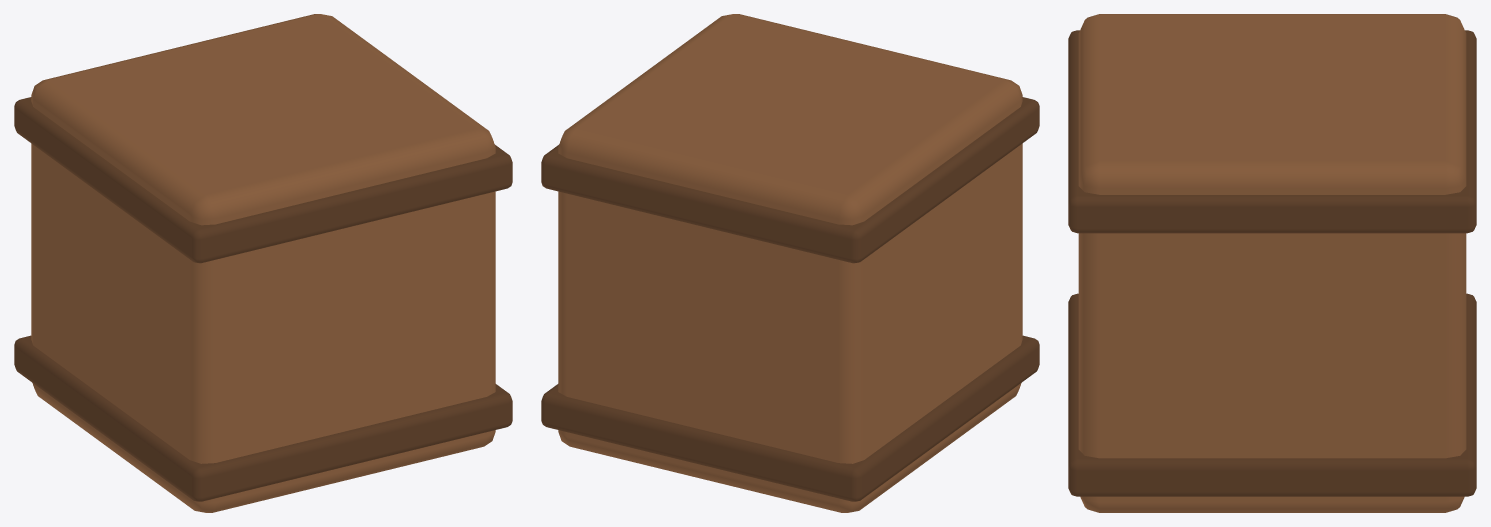
Rendered from crate.glb.
3 views of the same model, side by side, from view 1: azimuth 30°, elevation 25°; view 2: azimuth 150°, elevation 25°; view 3: azimuth 270°, elevation 25° (orthographic). The views are drawn at different scales.
Parts seen in each view (by area): view 1: crate; view 2: crate; view 3: crate.
Boxes of the visible parts, x1,y1,x2,y2 form: crate: [14, 14, 512, 512]; crate: [541, 14, 1039, 512]; crate: [1068, 14, 1476, 512].
Size of the model in its own units: 1.18 by 1.12 by 1.18.
